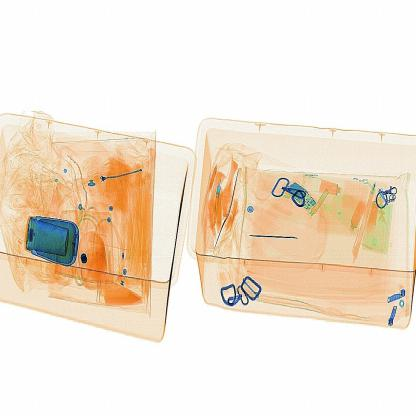pliers: (249, 221, 310, 250)
